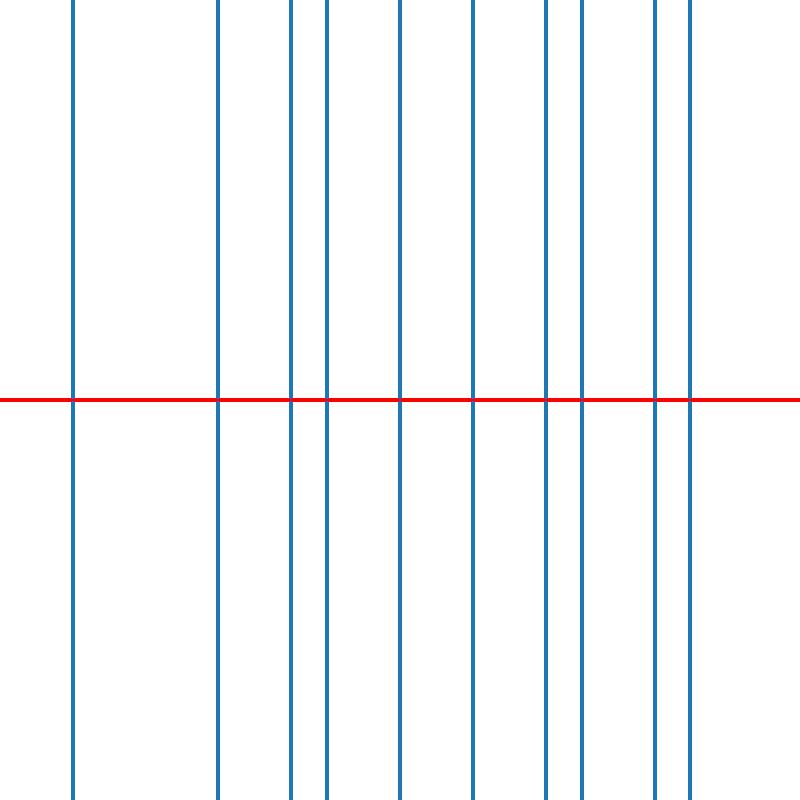root: (541, 396, 549, 404), (650, 396, 658, 404), (687, 396, 694, 404), (469, 396, 476, 404), (69, 396, 76, 404), (396, 396, 403, 404), (578, 396, 585, 404), (323, 396, 330, 404), (287, 396, 294, 404), (214, 396, 221, 404)
